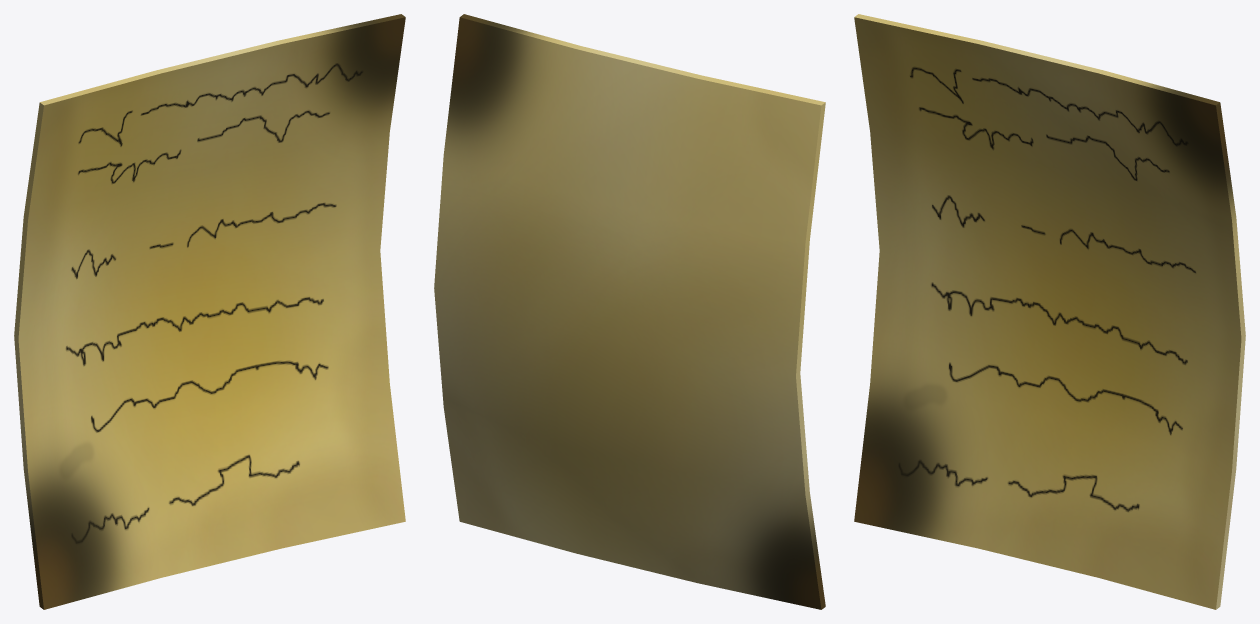
Rendered from paper.fbx.
The picture shows the model from 3 angles, left to right: view 1: azimuth 30°, elevation 25°; view 2: azimuth 150°, elevation 25°; view 3: azimuth 330°, elevation 25°; orthographic projection.
Parts seen in each view (by area): view 1: Plane; view 2: Plane; view 3: Plane.
Part boxes in pixels (x1=…): Plane: x1=14, y1=14, x2=405, y2=609; Plane: x1=434, y1=14, x2=825, y2=609; Plane: x1=854, y1=14, x2=1245, y2=609.
Bounding box in the file's own units: 114 × 152 × 21.32.
